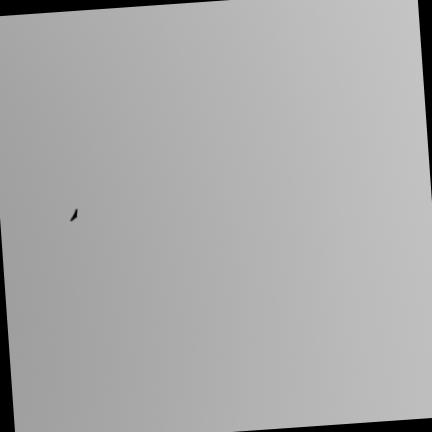Shahed: (70, 208, 77, 219)
